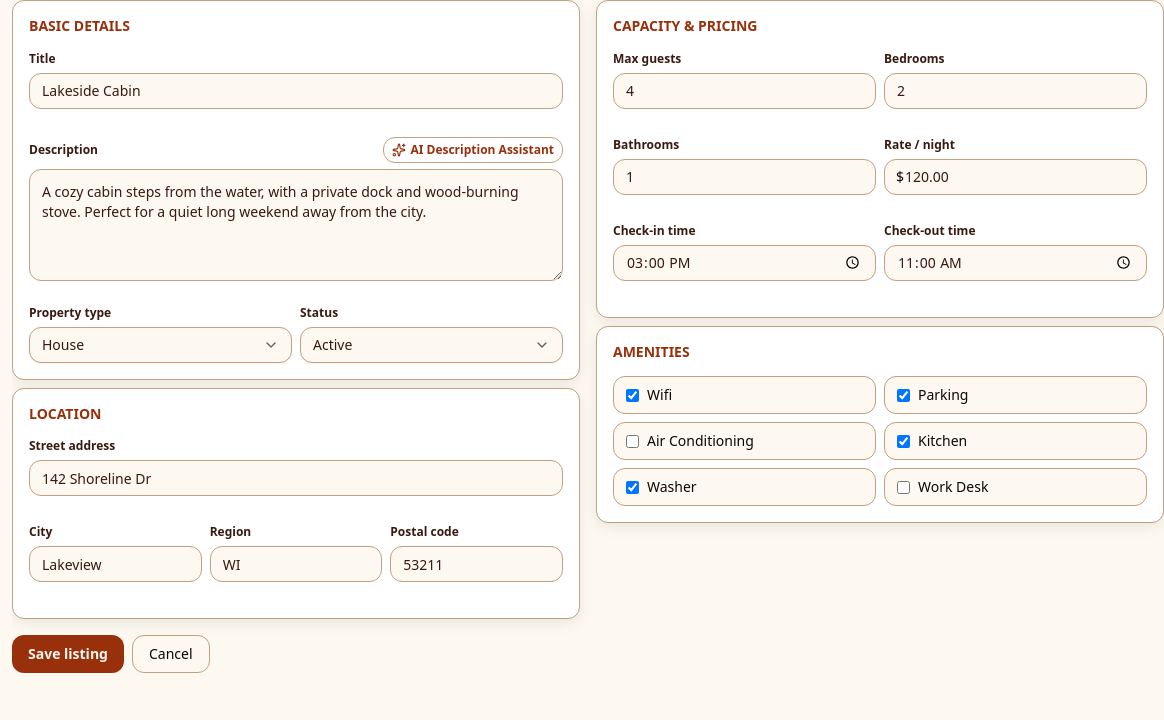
Scenario: Host listing components › rejects a check-out time later than check-in
Replace the text in the time field labelled "Check-in time" with "09:00". click: (744, 262)
box: [613,244,876,280]
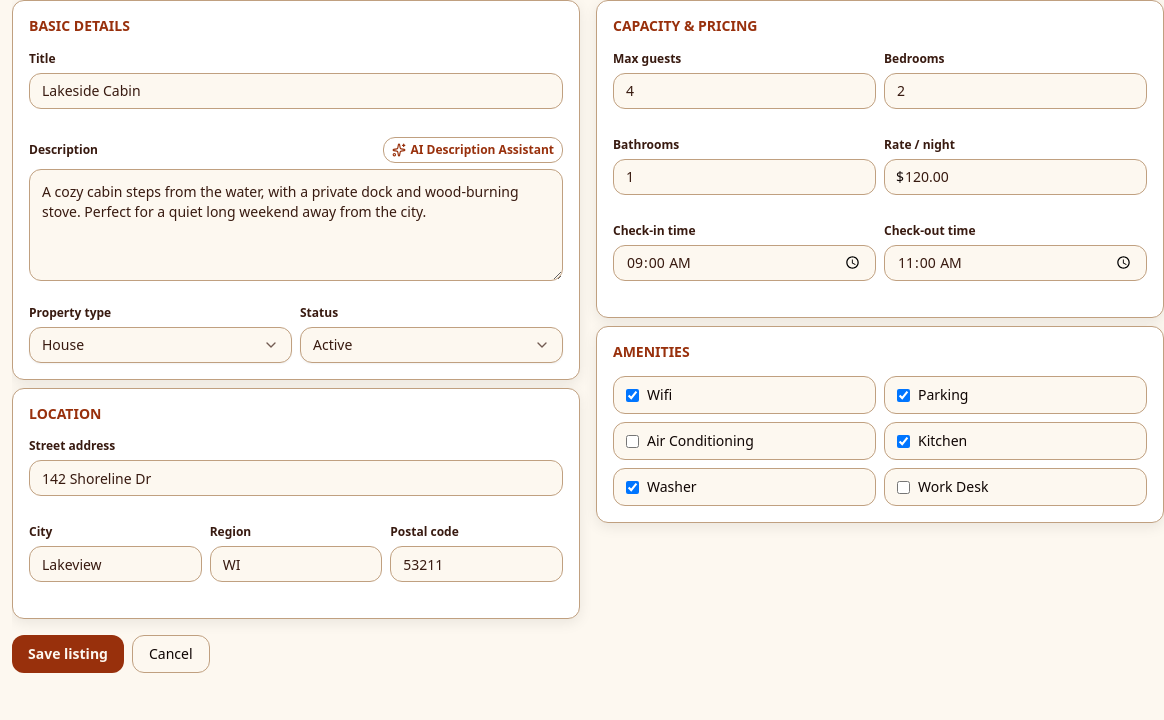
Replace the text in the time field labelled "Check-out time" with "10:00". click: (1016, 262)
box: [884,244,1147,280]
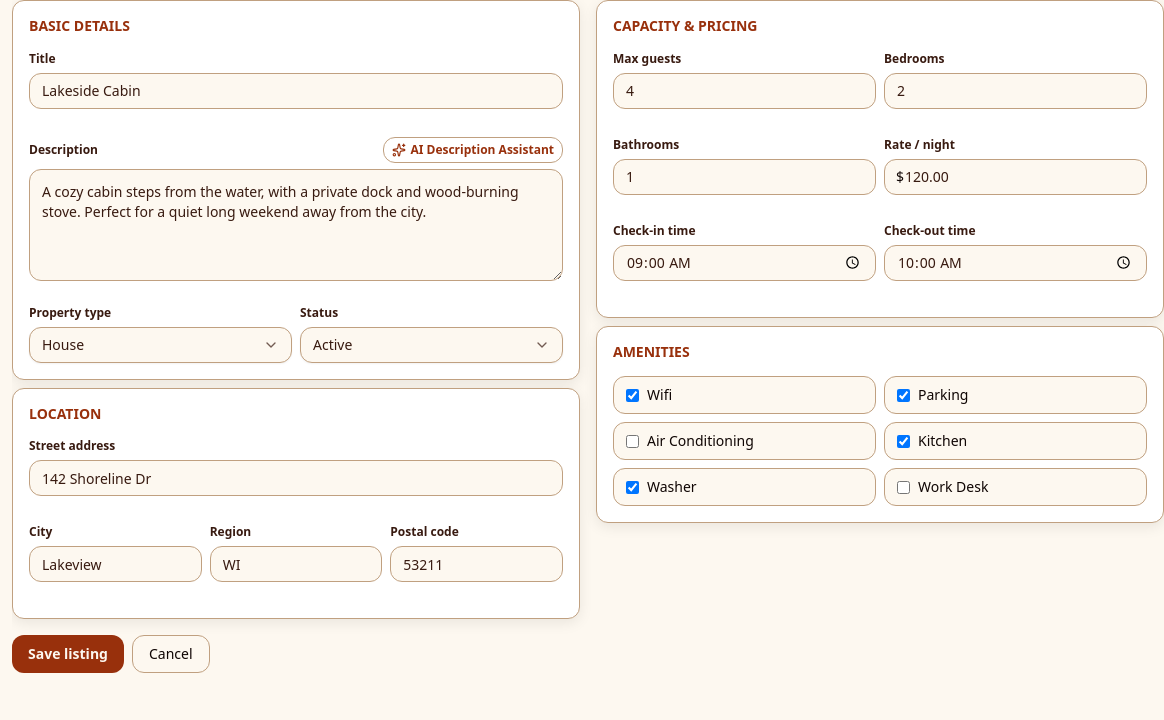
Click the button "Save listing". click: (68, 654)
box: [12,635,124,673]
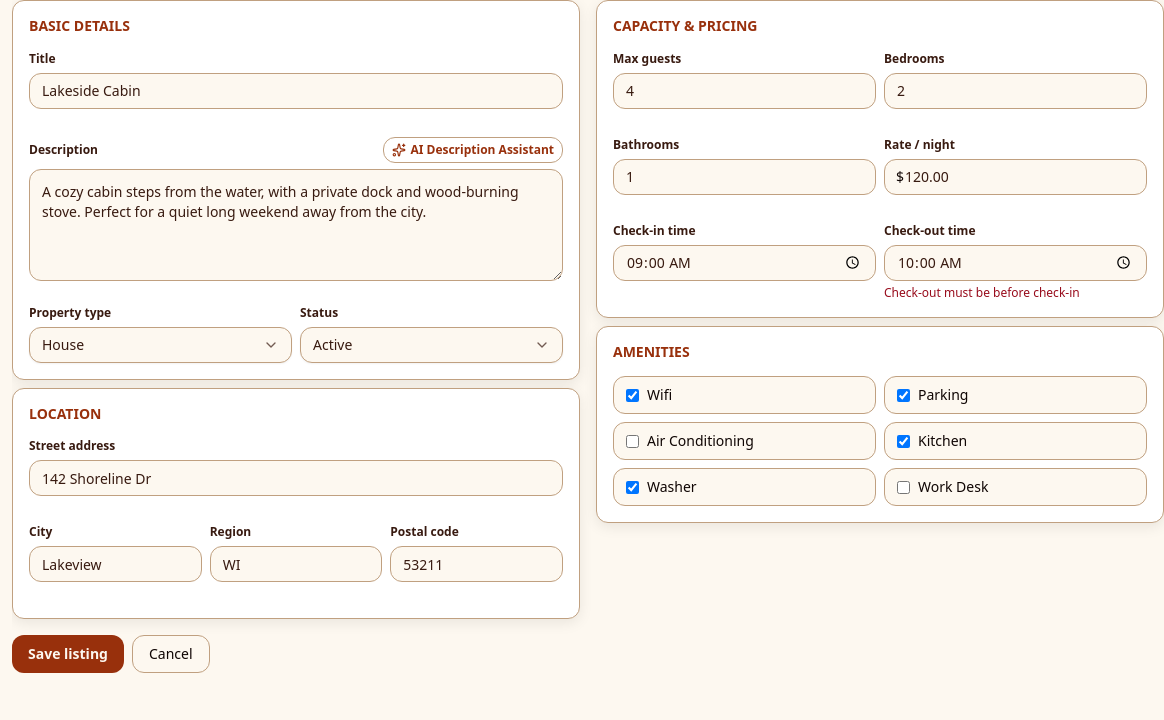
Expected: the text "Check-out must be before check-in" is shown, [884,284,1080,300]
